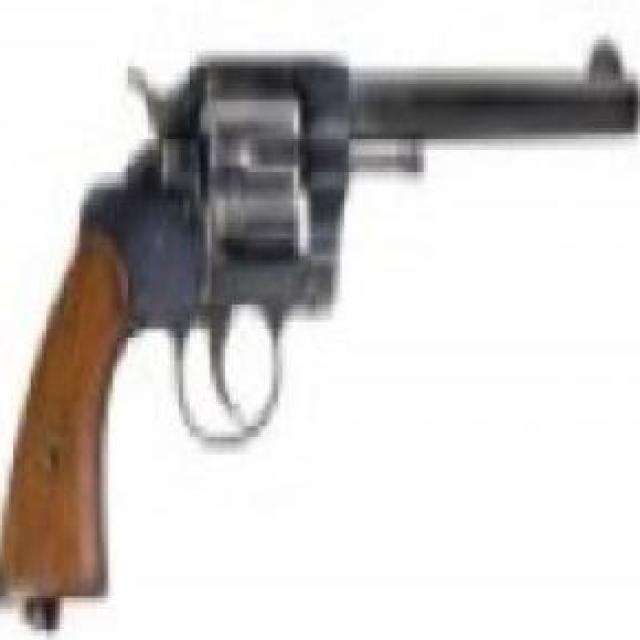pistol: (0, 40, 629, 607)
